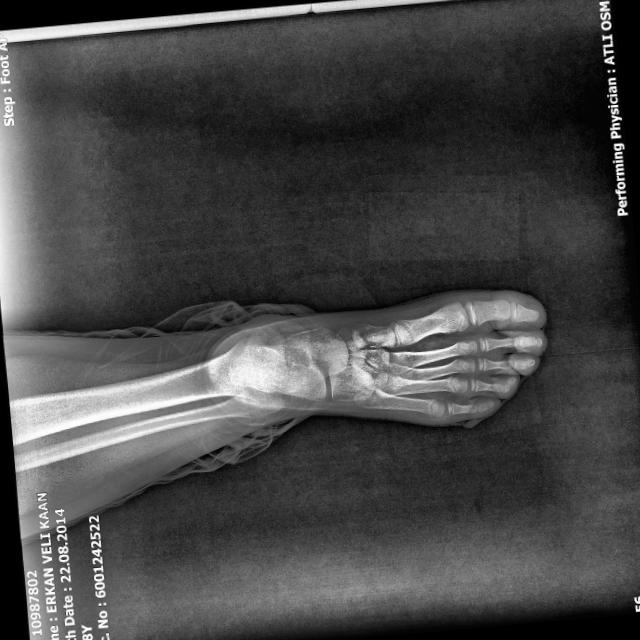Not_Fracture: (0, 264, 569, 548)
